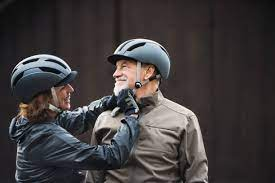helmets: (8, 54, 78, 104), (107, 38, 171, 82)
